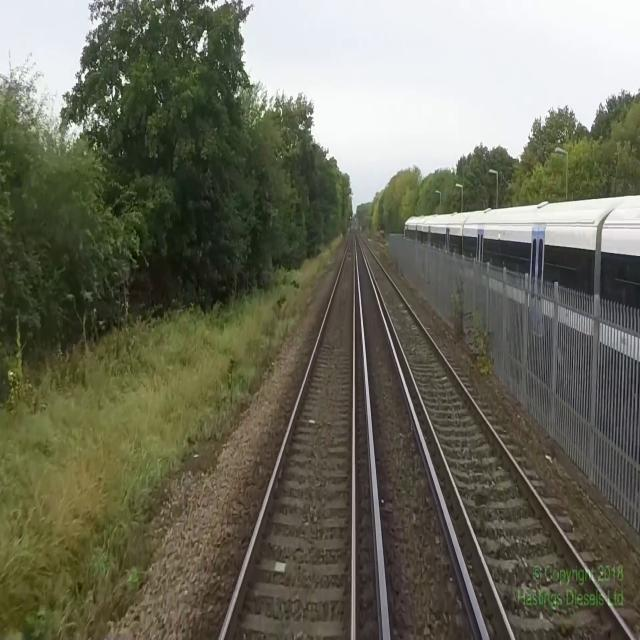rail-track: (358, 236, 630, 639), (223, 235, 353, 639)
